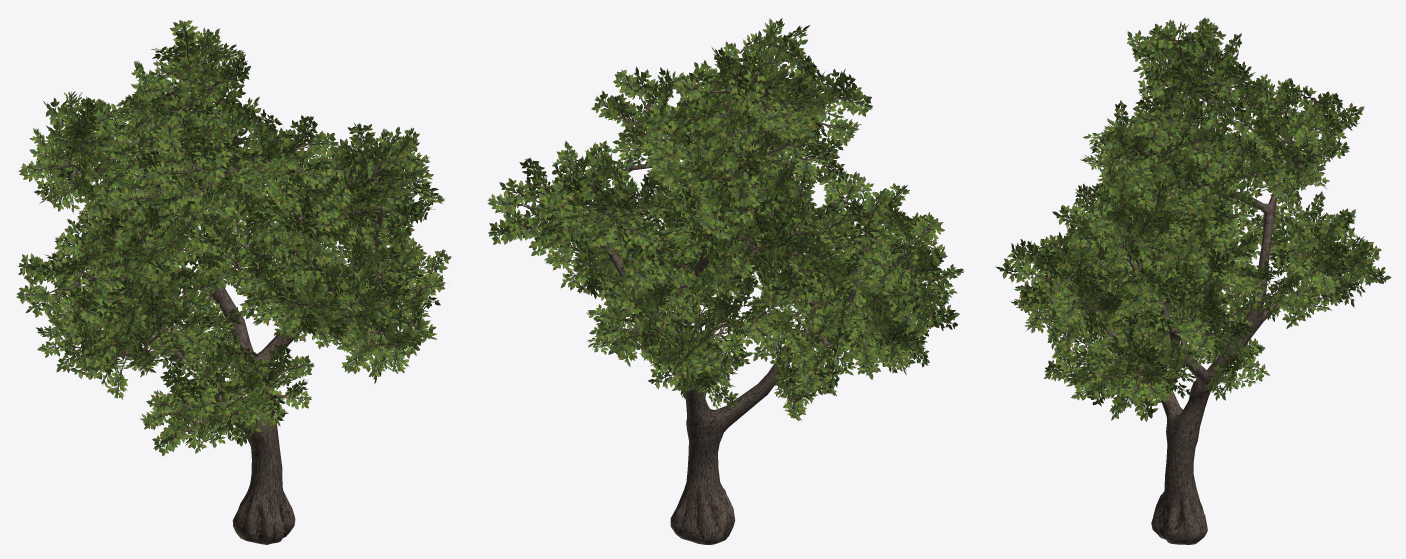
File: realistic_tree.glb
3 renders of one model, left to right at view 1: azimuth 30°, elevation 25°; view 2: azimuth 150°, elevation 25°; view 3: azimuth 270°, elevation 25°, orthographic. The views are drawn at different scales.
Parts seen in each view (by area): view 1: RealisticDeciduousTree; view 2: RealisticDeciduousTree; view 3: RealisticDeciduousTree.
Boxes of the visible parts, <box> form: RealisticDeciduousTree: <box>16,20,451,544</box>; RealisticDeciduousTree: <box>487,18,964,544</box>; RealisticDeciduousTree: <box>995,17,1391,544</box>.
Bounding box in the file's own units: 6.7 × 7.5 × 5.48.
2 materials, 2 textured.
